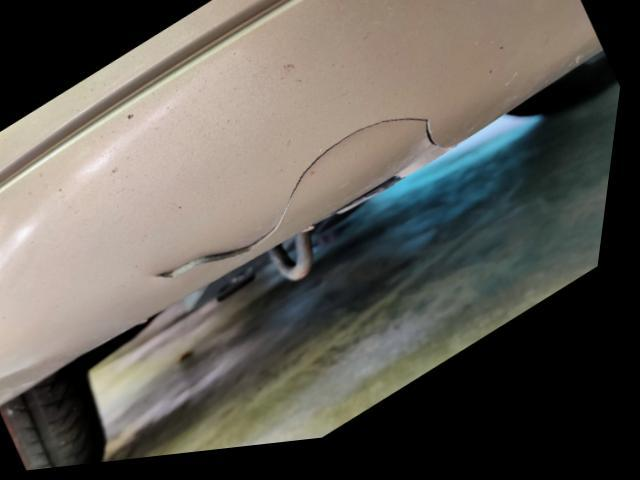crack: (161, 127, 444, 283)
